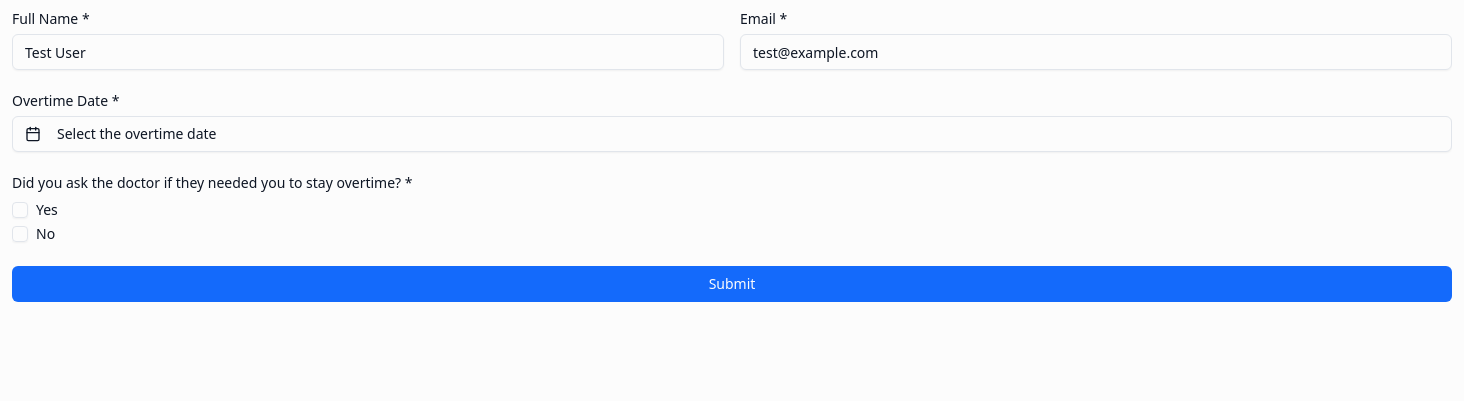
Scenario: OvertimeRequestForm › hides senior staff field when "Yes" is selected for asked doctor
First select "No"
What coordinates should you click on to do the following:
click the checkbox with id "askedDoctorNo"
I would click on:
 (20, 234)
Its box is [12, 226, 28, 242].
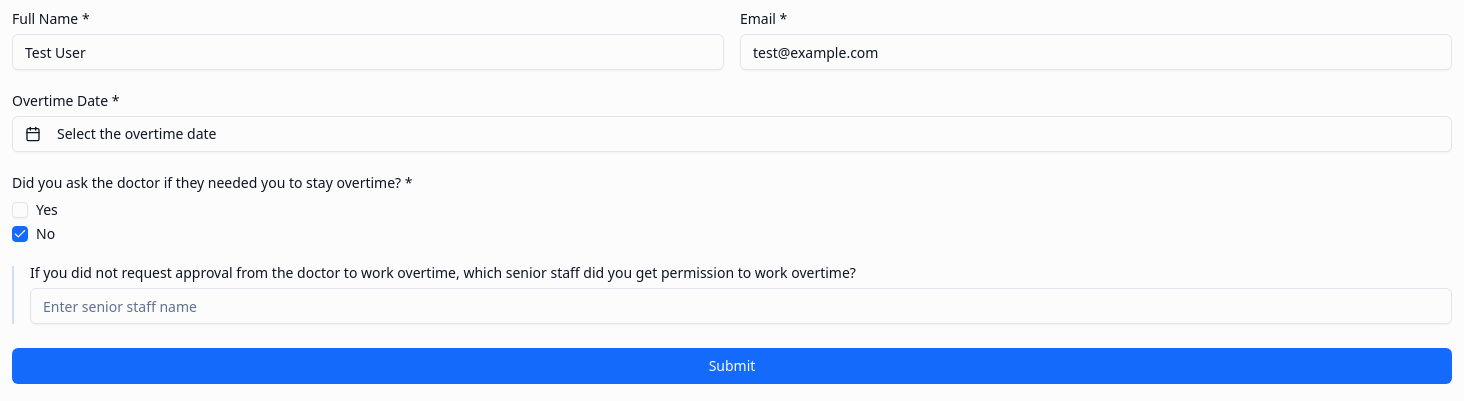
Expected: the field with id "seniorStaffName" is shown, [30, 288, 1452, 324]
Now select "Yes"
What coordinates should you click on to do the following:
click the checkbox with id "askedDoctorYes"
I would click on:
 (20, 210)
Its box is [12, 202, 28, 218].
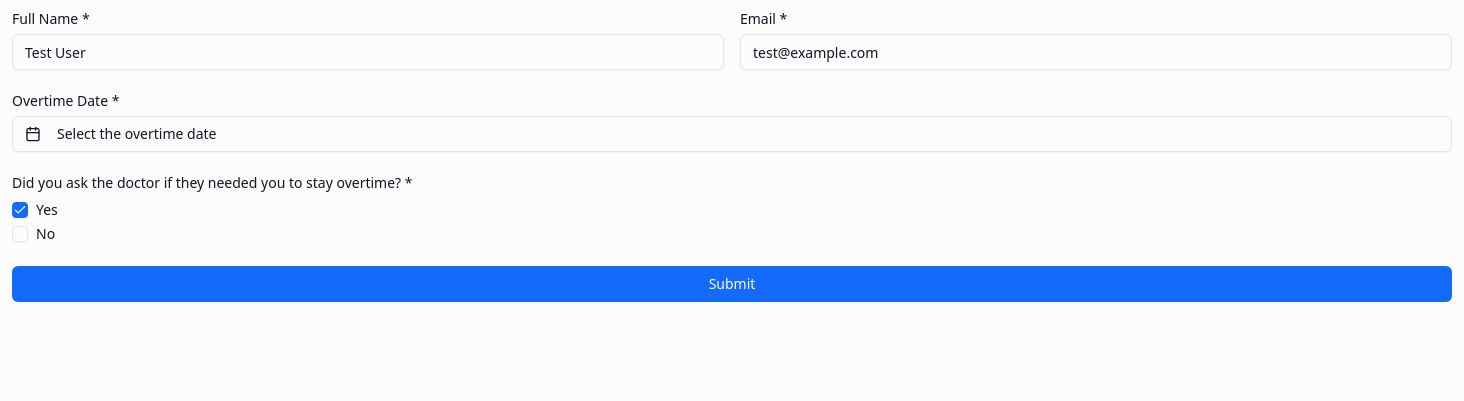
Expected: the label with id "seniorStaffName" is gone
